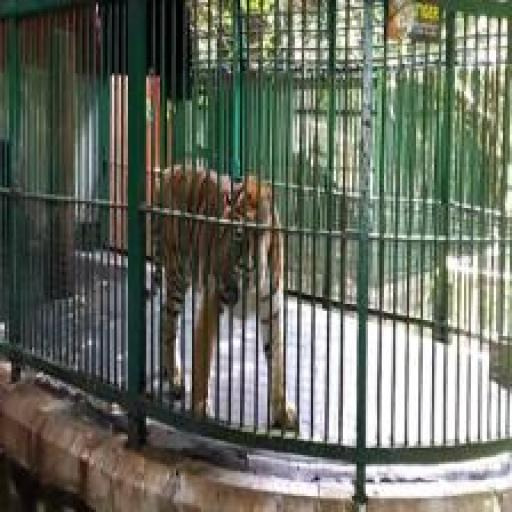Tiger: (148, 140, 311, 412)
